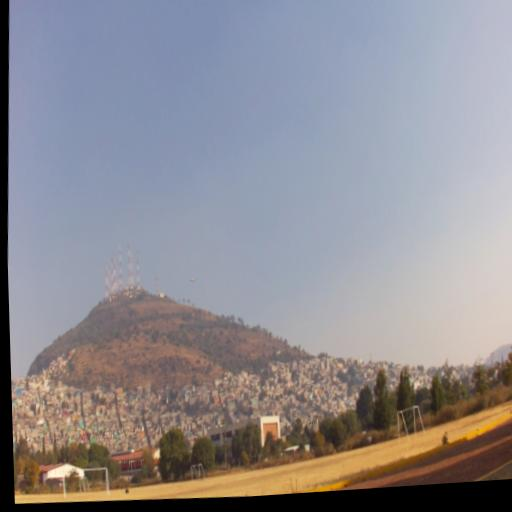drones: (189, 276, 196, 284)
